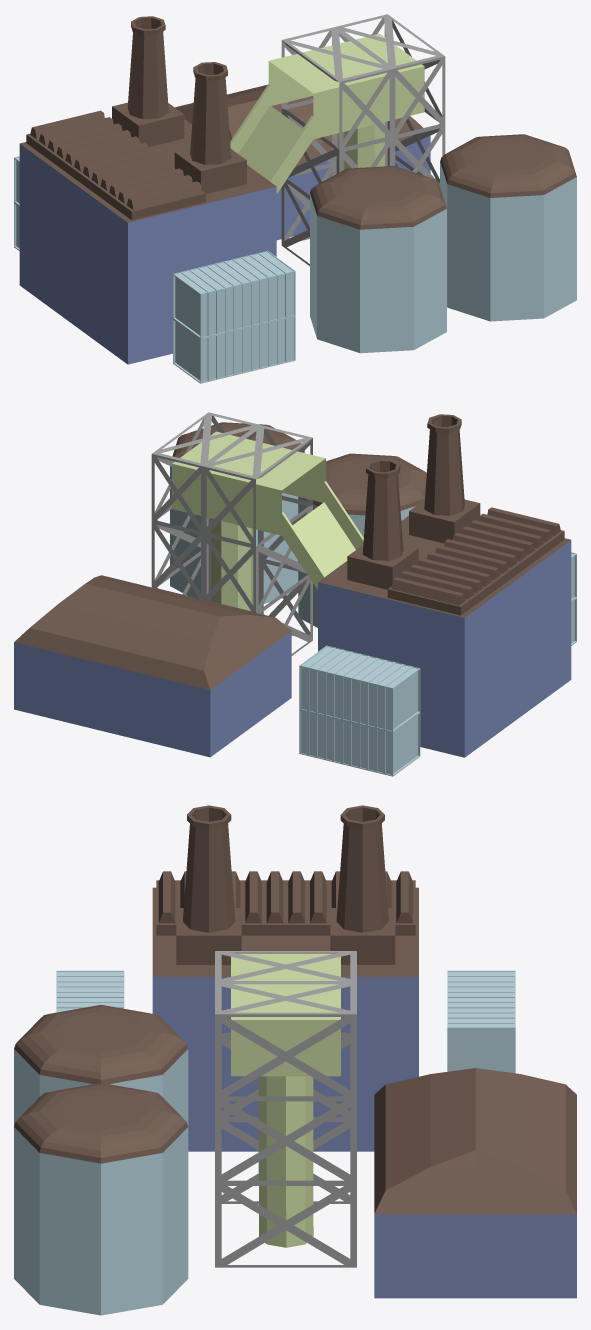
File: Mining Facility.fbx
3 views of the same model, one above another, from view 1: azimuth 30°, elevation 25°; view 2: azimuth 150°, elevation 25°; view 3: azimuth 270°, elevation 25° (orthographic). The views are drawn at different scales.
Parts seen in each view (by area): view 1: Mining Facility.001; view 2: Mining Facility.001; view 3: Mining Facility.001.
Boxes of the visible parts, x1,y1,x2,y2 form: Mining Facility.001: (14, 14, 576, 383); Mining Facility.001: (14, 412, 576, 776); Mining Facility.001: (14, 805, 576, 1315).
Bounding box in the file's own units: 887 × 510 × 835.
